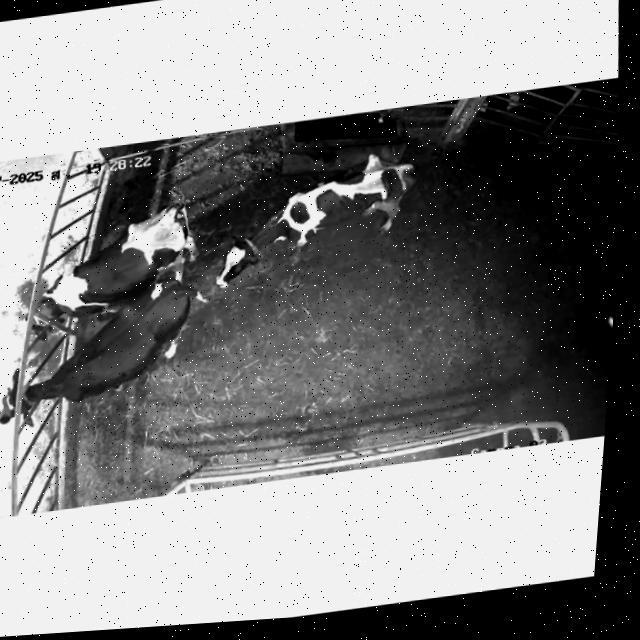stand: (215, 153, 414, 287)
